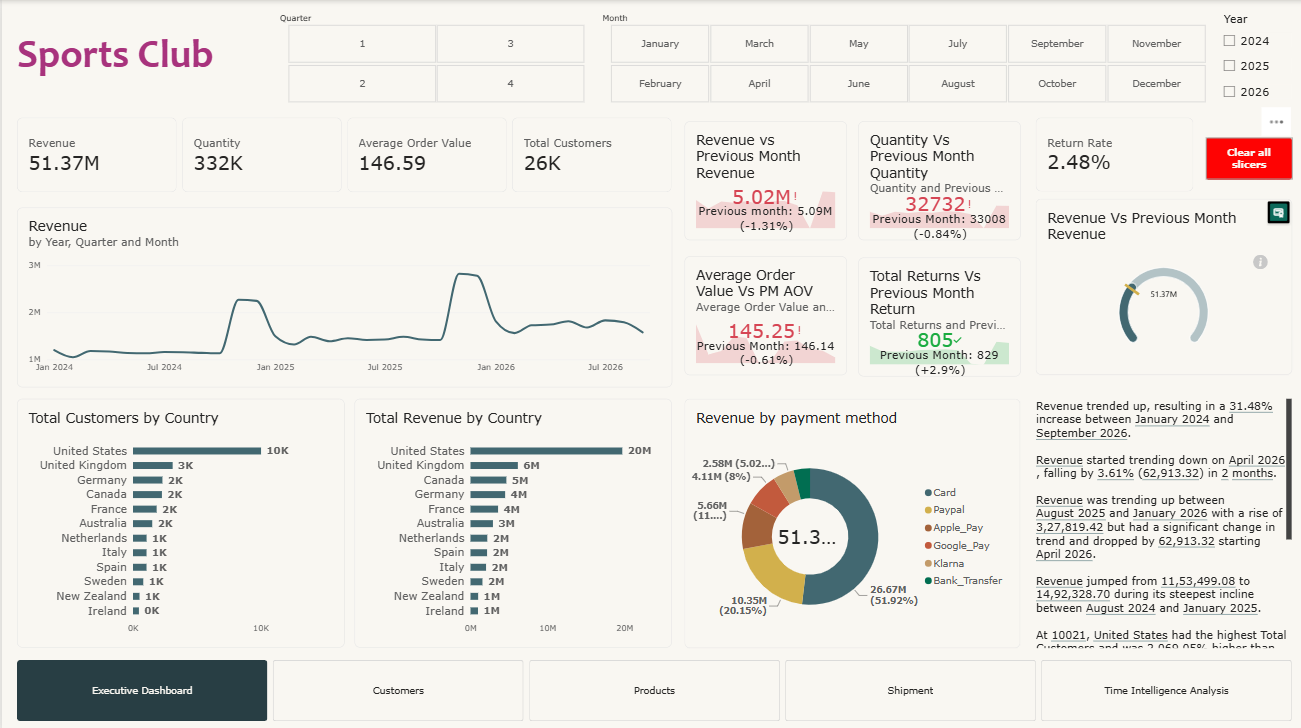

Layout of this report page (visuals, bound fields, positions):
{"tool":"powerbi","page":{"name":"Executive Dashboard ","canvas":[1920,1080],"ordinal":0},"visuals":[{"type":"cardVisual","fields":{"Data":["Key Measures.Revenue","Key Measures.Quantity","Key Measures.Average Order Value","Key Measures.Total Customers"]},"box":[22.1,173,964.4,110.4],"z":0},{"type":"lineChart","fields":{"Category":["Calendar.Date.Variation.Date Hierarchy.Year","Calendar.Date.Variation.Date Hierarchy.Quarter","Calendar.Date.Variation.Date Hierarchy.Month","Calendar.Date.Variation.Date Hierarchy.Day"],"Y":["Key Measures.Revenue"]},"box":[22.1,305.5,964.4,265],"z":1000},{"type":"clusteredBarChart","title":"Total Customers by Country","fields":{"Category":["customers.country"],"Y":["Key Measures.Total Customers"]},"box":[22.1,587.1,482.2,366.3],"z":2000},{"type":"clusteredBarChart","title":"Total Revenue by Country","fields":{"Category":["customers.country"],"Y":["Key Measures.Revenue"]},"box":[519,587.1,467.5,366.3],"z":3000},{"type":"donutChart","title":"Revenue by payment method","fields":{"Category":["payments.method"],"Y":["Key Measures.Revenue"]},"box":[1005.4,587,494.2,367.3],"z":4000},{"type":"kpi","title":"Revenue vs Previous Month Revenue ","fields":{"Goal":["Key Measures.Previous Month Revenue"],"Indicator":["Key Measures.Revenue"],"TrendLine":["Calendar.Date.Variation.Date Hierarchy.Month"]},"box":[1004.9,178.5,239.3,174.8],"z":5000},{"type":"kpi","title":"Average Order Value Vs PM AOV","fields":{"Goal":["Key Measures.PM AOV"],"Indicator":["Key Measures.Average Order Value"],"TrendLine":["Calendar.Month"]},"box":[1004.9,377.3,239.3,174.8],"z":6000},{"type":"kpi","title":"Quantity Vs Previous Month Quantity","fields":{"Goal":["Key Measures.Previous Month Orders"],"Indicator":["Key Measures.Quantity"],"TrendLine":["Calendar.Month"]},"box":[1260.7,178.5,239.3,174.8],"z":7000},{"type":"kpi","title":"Total Returns Vs Previous Month Return","fields":{"Goal":["Key Measures.Previous Month Return"],"Indicator":["Key Measures.Total Returns"],"TrendLine":["Calendar.Month"]},"box":[1260.7,379.1,239.3,174.8],"z":8000},{"type":"cardVisual","fields":{"Data":["Key Measures.Return Rate"]},"box":[1522.4,172.3,232.9,109.8],"z":9000},{"type":"slicer","fields":{"Values":["Calendar.Date.Variation.Date Hierarchy.Year"]},"box":[1790.8,18.4,107.9,149.6],"z":10000},{"type":"slicer","fields":{"Values":["Calendar.Date.Variation.Date Hierarchy.Month"]},"box":[876.1,18.4,914.7,134.4],"z":11000},{"type":"textbox","box":[22.1,42.3,318.1,107.9],"z":12000},{"type":"slicer","fields":{"Values":["Calendar.Quarter"]},"box":[401.2,18.4,474.8,134.4],"z":13000},{"type":"advancedGauge97290A2225EA4EB5BC5C8D85F9ACA7DA","title":"Revenue Vs Previous Month Revenue","fields":{"value1":["Key Measures.Revenue"],"target1":["Key Measures.Previous Month Revenue"],"minimum1":["Key Measures.Average Order Value"]},"box":[1522.1,292.6,377.3,259.5],"z":14000},{"type":"textbox","box":[1522,587,377,367],"z":15000},{"type":"actionButton","box":[1772,203,127.1,62.6],"z":16000},{"type":"pageNavigator","box":[22.1,971.8,1877.3,90.2],"z":16001}]}

Visuals, with their boxes in screenshot pixels (x1, y1, x2, y2), scaled from the page's 1920x1080 canvas onto the 1301x728 screenshot:
cardVisual - Key Measures.Revenue x Key Measures.Quantity: 15 117 668 191
lineChart - Calendar.Date.Variation.Date Hierarchy.Year x Calendar.Date.Variation.Date Hierarchy.Quarter: 15 206 668 385
"Total Customers by Country" clusteredBarChart: 15 396 342 643
"Total Revenue by Country" clusteredBarChart: 352 396 668 643
"Revenue by payment method" donutChart: 681 396 1016 643
"Revenue vs Previous Month Revenue " kpi: 681 120 843 238
"Average Order Value Vs PM AOV" kpi: 681 254 843 372
"Quantity Vs Previous Month Quantity" kpi: 854 120 1016 238
"Total Returns Vs Previous Month Return" kpi: 854 256 1016 373
cardVisual - Key Measures.Return Rate: 1032 116 1189 190
slicer - Calendar.Date.Variation.Date Hierarchy.Year: 1213 12 1287 113
slicer - Calendar.Date.Variation.Date Hierarchy.Month: 594 12 1213 103
textbox: 15 29 231 101
slicer - Calendar.Quarter: 272 12 594 103
"Revenue Vs Previous Month Revenue" advancedGauge97290A2225EA4EB5BC5C8D85F9ACA7DA: 1031 197 1287 372
textbox: 1031 396 1287 643
actionButton: 1201 137 1287 179
pageNavigator: 15 655 1287 716
